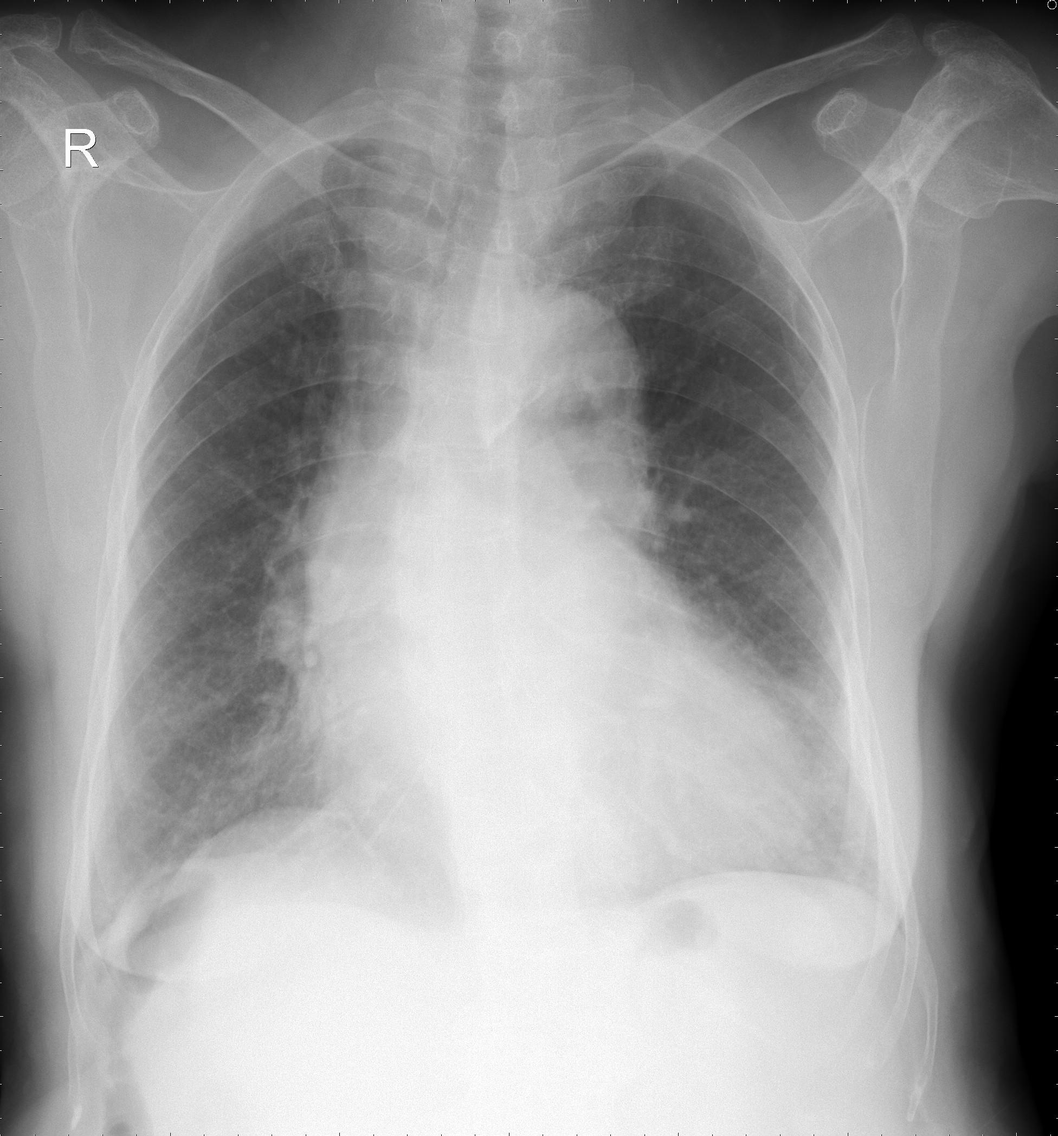Aortic enlargement: (492, 285, 645, 479)
Cardiomegaly: (300, 669, 828, 877)
